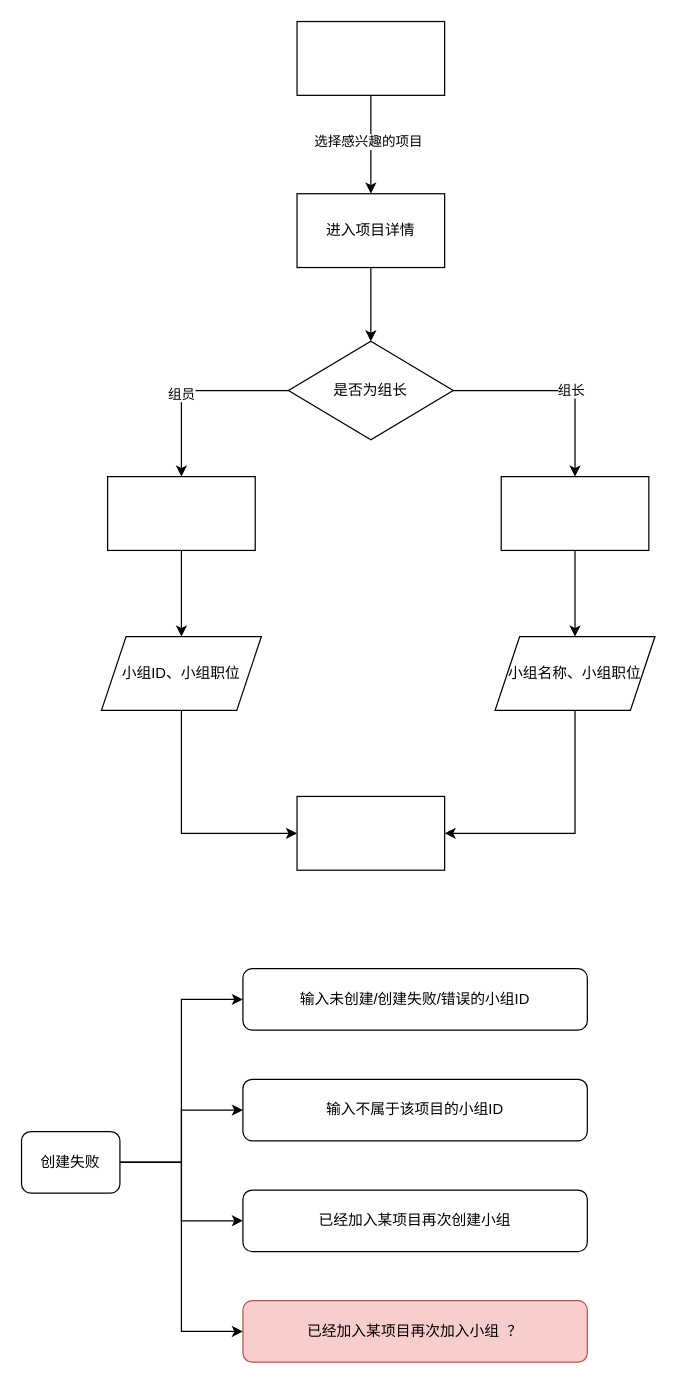
This 677x1384 diagram has some shape labels left out. The shapes that lost their labels are listed below. From the top down, each one's centre as x and y in pixels, then its label:
At point (370, 57): "进入项目广场".
At point (180, 512): "加入小组".
At point (574, 512): "创建小组".
At point (370, 832): "等待老师审核".
